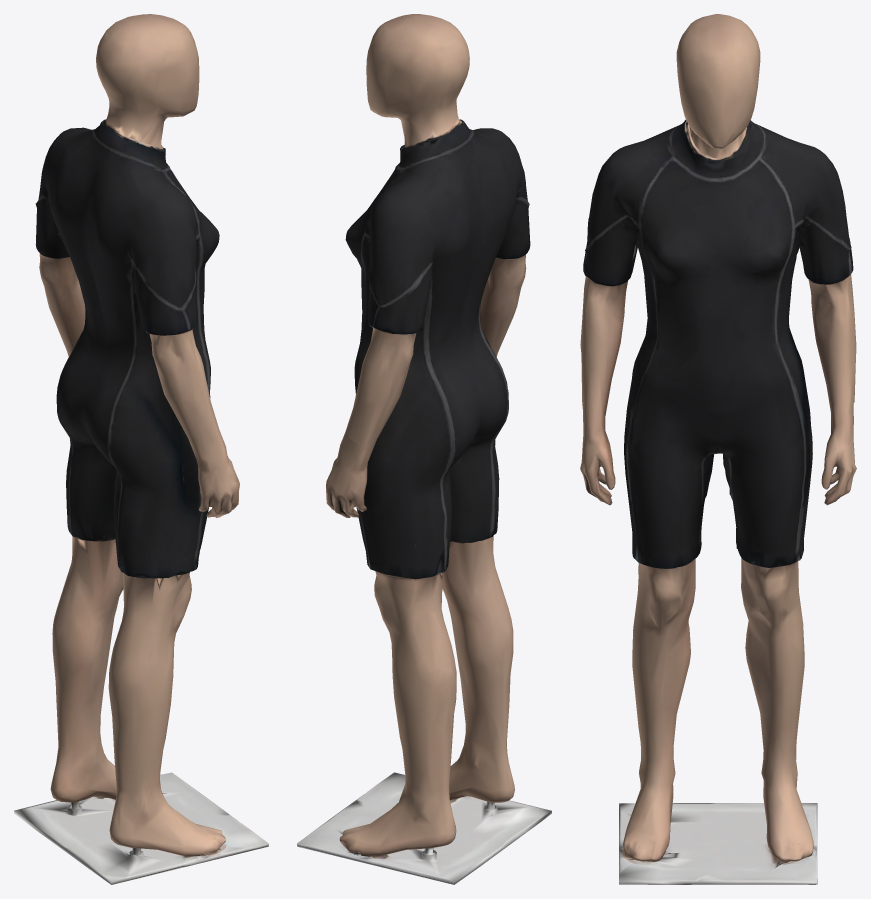
Rendered from shorty.glb.
The picture shows the model from 3 angles, left to right: view 1: azimuth 30°, elevation 25°; view 2: azimuth 150°, elevation 25°; view 3: azimuth 270°, elevation 25°; orthographic projection.
Visible parts, largest first — view 1: tripo_node_24afe5cd-7f29-4515-9016-8f724f903e94; view 2: tripo_node_24afe5cd-7f29-4515-9016-8f724f903e94; view 3: tripo_node_24afe5cd-7f29-4515-9016-8f724f903e94.
Part boxes in pixels (x1=…): tripo_node_24afe5cd-7f29-4515-9016-8f724f903e94: x1=14, y1=14, x2=268, y2=884; tripo_node_24afe5cd-7f29-4515-9016-8f724f903e94: x1=297, y1=14, x2=551, y2=884; tripo_node_24afe5cd-7f29-4515-9016-8f724f903e94: x1=580, y1=14, x2=856, y2=884.
Size of the model in its own units: 0.3568 by 1.75 by 0.5308.
Materials: 1 (1 with a texture image).
